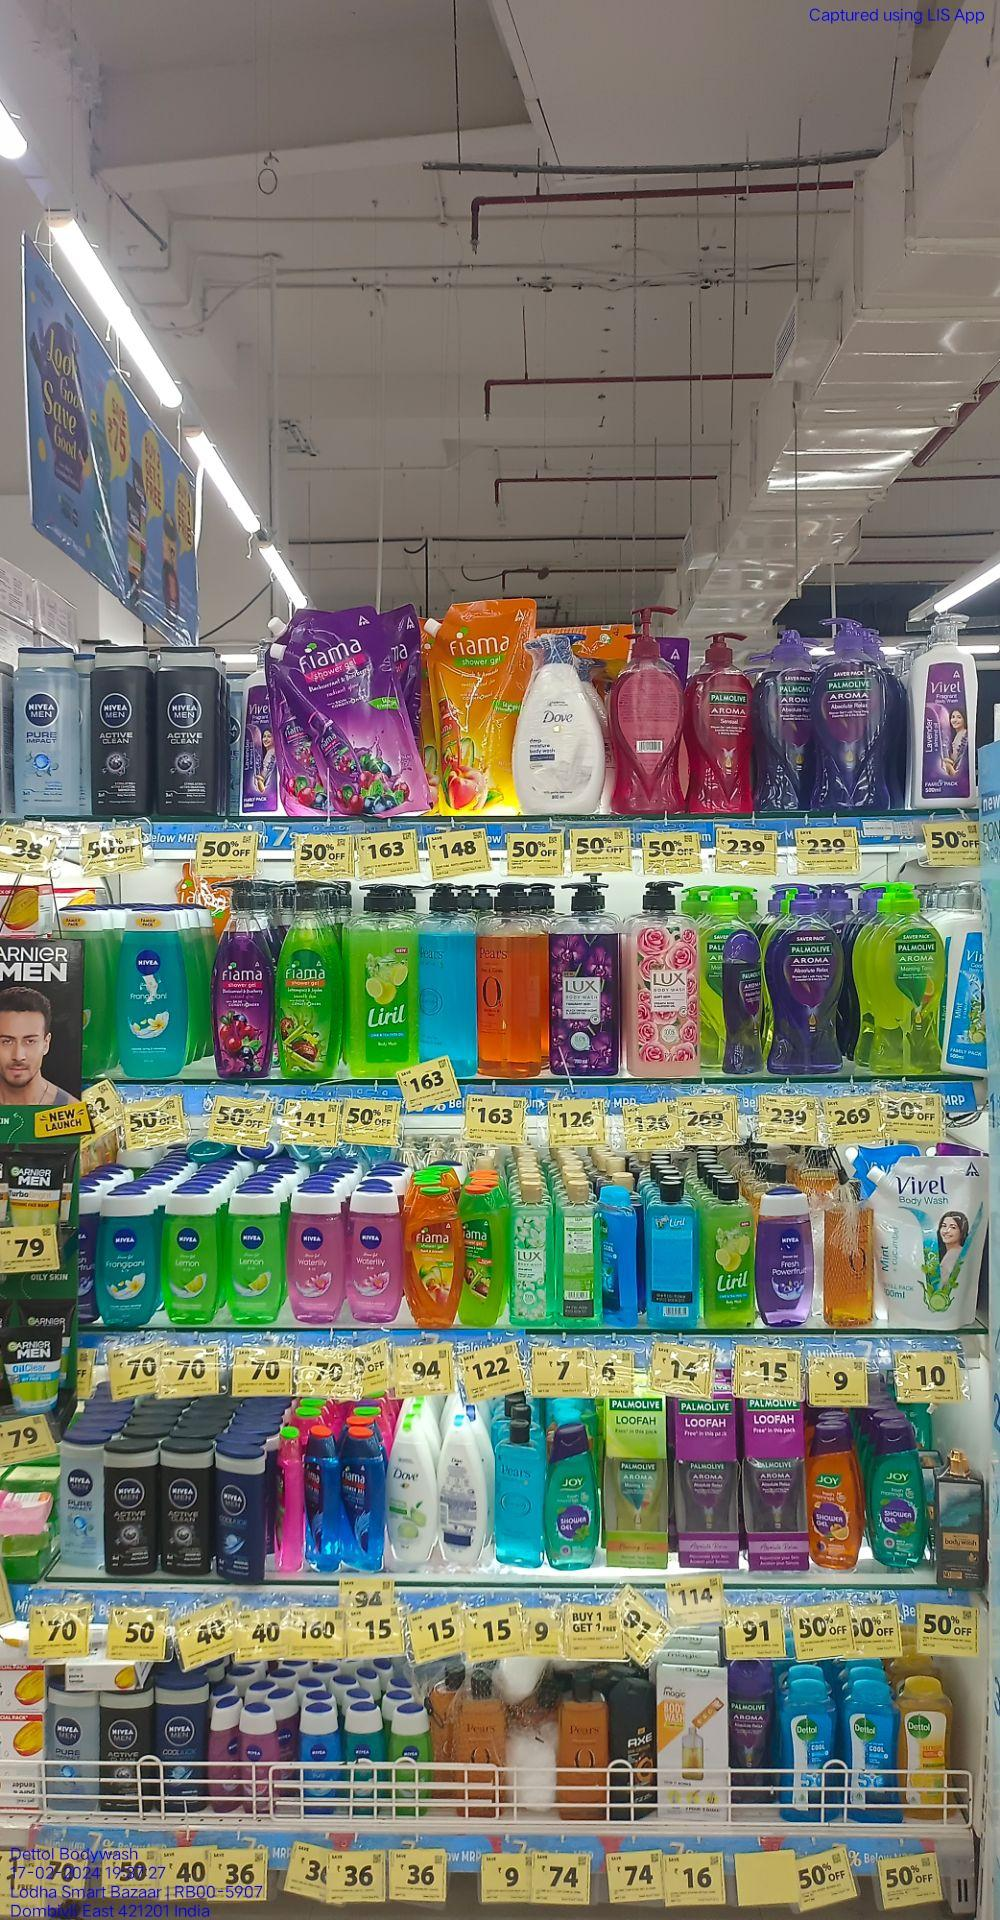Dettol_Bodywash_Cool: (778, 1679, 840, 1822), (843, 1679, 902, 1822)
Dettol_Bodywash_Refresh: (905, 1674, 959, 1823)
Dove_Refreshing_Body_Wash_250ML: (386, 1421, 437, 1563)
Fiama_Shower_Gel_Lemongrass_and_Jojoba_250ML: (457, 1180, 503, 1330)
Fiama_Shower_Gel_Peach_and_Avocado_250ML: (405, 1186, 457, 1328)
Joy_Shower_Gel_Mandarin_and_Lemongrass_250ML: (805, 1420, 862, 1571)
Joy_Shower_Gel_Mint_and_Eucalyptus_250ML: (871, 1418, 928, 1570), (548, 1423, 598, 1571)
Liril_Lime_and_Tea_Tree_Oil_Body_Wash_250ML: (701, 1177, 755, 1326)
Lux_Body_Wash_Skin_Detox_Freesia_Scent_and_Alove_Vera_245ML: (506, 1182, 556, 1327)
Nivea_Shower_Gel_Frangipani_and_Oil_250ML: (114, 902, 185, 1077), (95, 1186, 159, 1331)
Nivea_Shower_Gel_Fresh_Powerfruit_250ML: (758, 1186, 808, 1328)
Nivea_Shower_Gel_Lemon_and_Oil_250ML: (161, 1185, 217, 1326), (226, 1190, 282, 1323)
Nivea_Shower_Gel_Waterlily_and_Oil_250ML: (287, 1187, 346, 1327), (349, 1190, 398, 1326)
Palmolive_Aroma_Relax_250ML: (725, 1658, 775, 1798), (720, 928, 766, 1076)
Pears_Pure_Glycerin_and_Mint_Extracts_Body_Wash_250ML: (492, 1412, 546, 1570)
